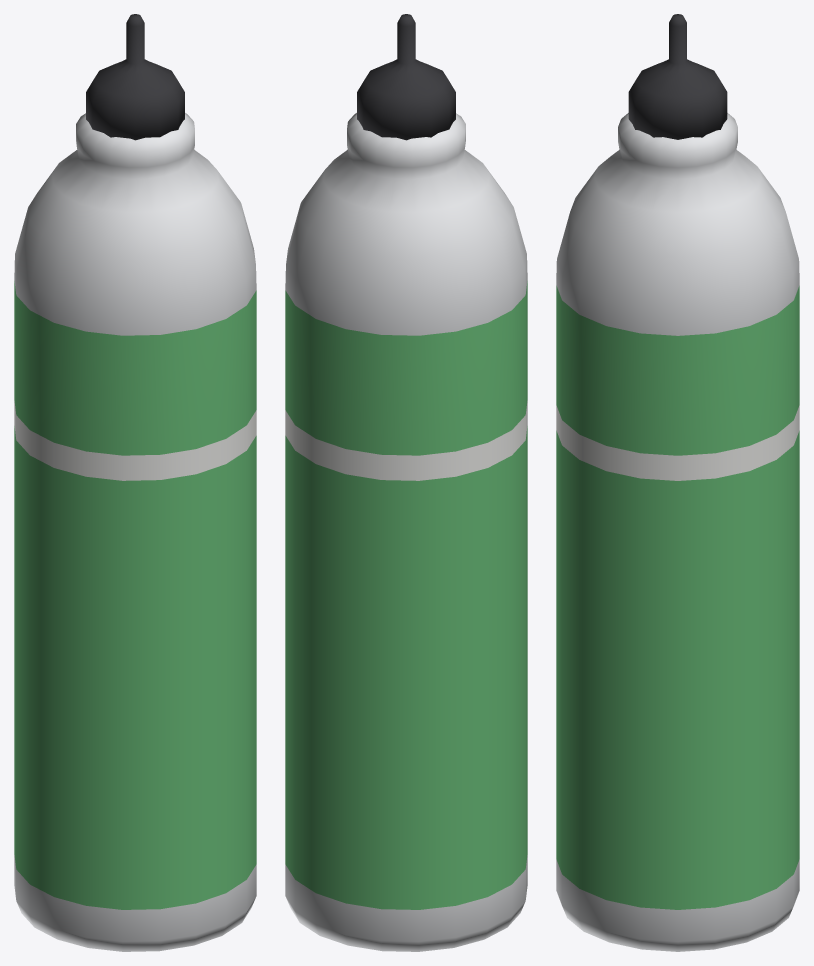
File: gasBottle.glb
3 renders of one model, left to right at view 1: azimuth 30°, elevation 25°; view 2: azimuth 150°, elevation 25°; view 3: azimuth 270°, elevation 25°, orthographic.
Visible parts, largest first — view 1: Bottle; view 2: Bottle; view 3: Bottle.
Part boxes in pixels (x1,y1,x2,y2): Bottle: (14, 14, 256, 951); Bottle: (285, 14, 527, 951); Bottle: (556, 14, 799, 951).
Bounding box in the file's own units: 0.07 × 0.281 × 0.07.
